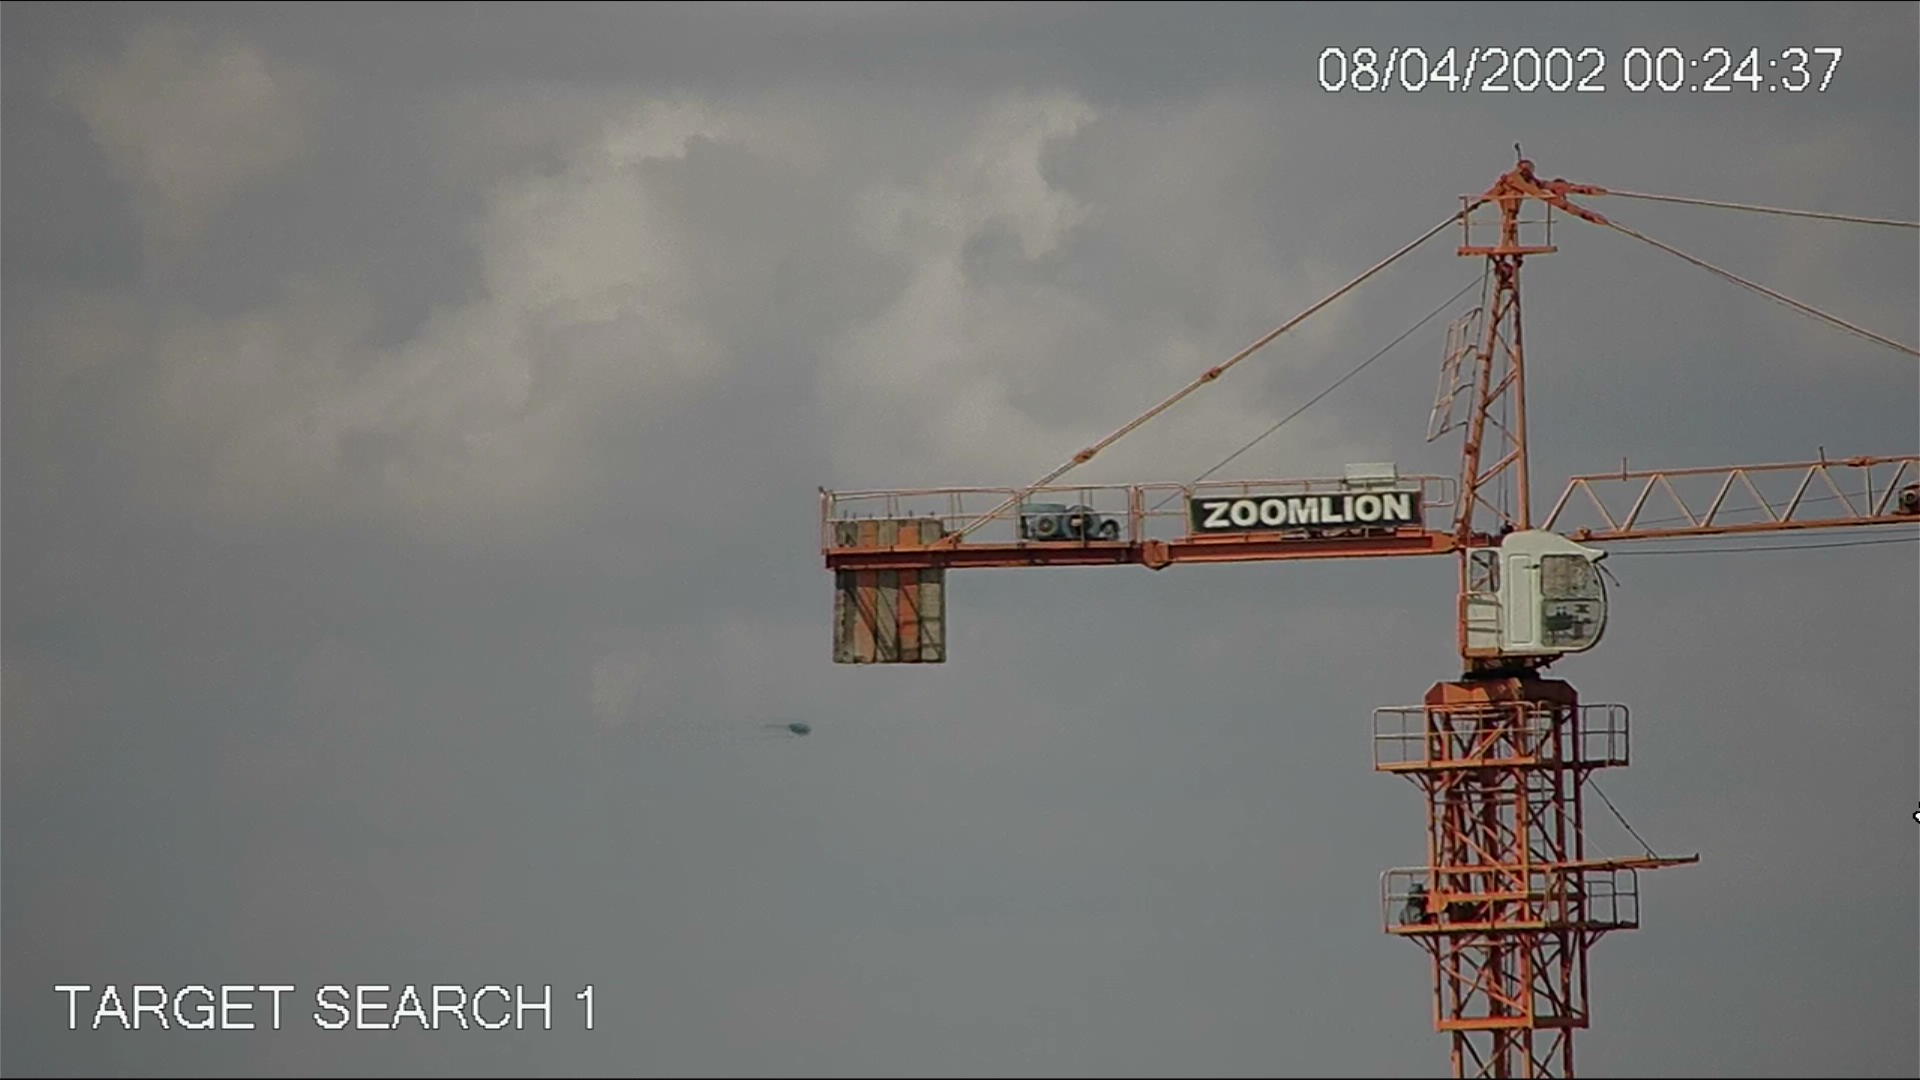SU_30: (756, 713, 816, 740)
